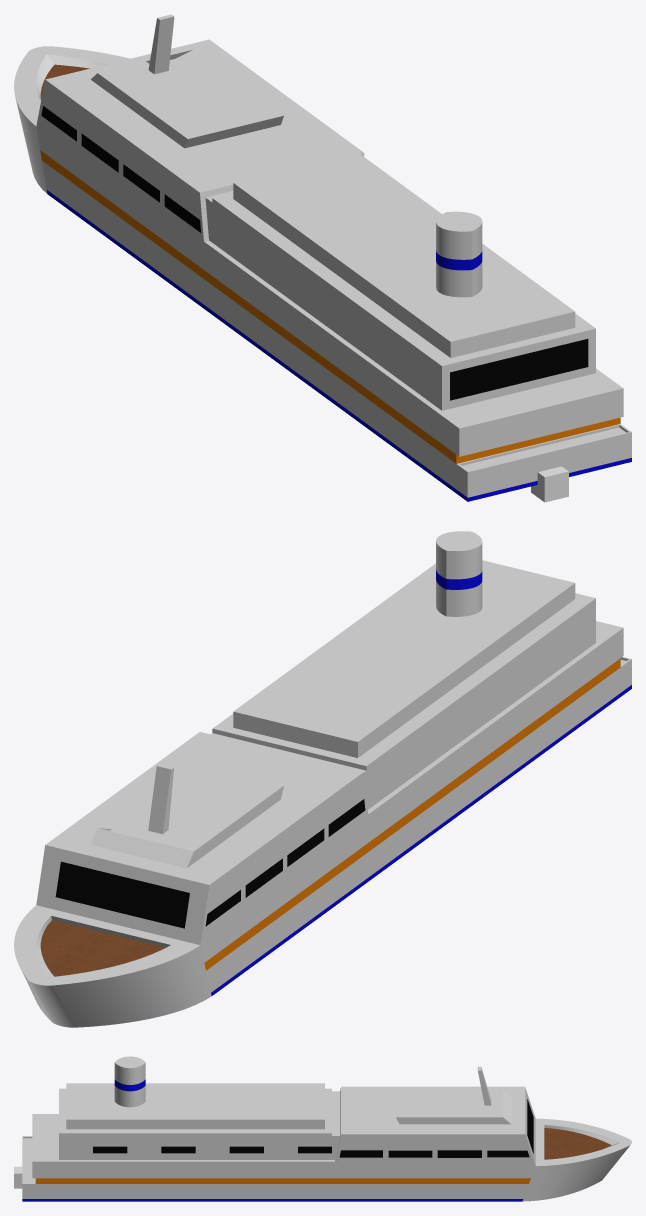
File: boat.glb
The picture shows the model from 3 angles, top to bottom: view 1: azimuth 30°, elevation 25°; view 2: azimuth 150°, elevation 25°; view 3: azimuth 270°, elevation 25°; orthographic projection. The views are drawn at different scales.
Visible parts, largest first — view 1: Test, Cube; view 2: Test; view 3: Test.
Part boxes in pixels (x1,y1,x2,y2): Test: (14,14,631,501); Cube: (531,466,568,502); Test: (14,531,631,1027); Test: (22,1056,631,1201).
Bounding box in the file's own units: 13.61 × 16.36 × 74.53.
6 materials, 1 textured.
